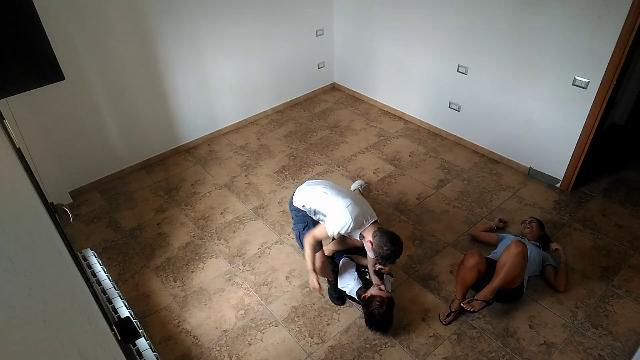non-violence: (438, 217, 574, 325)
violence: (288, 183, 404, 335)
